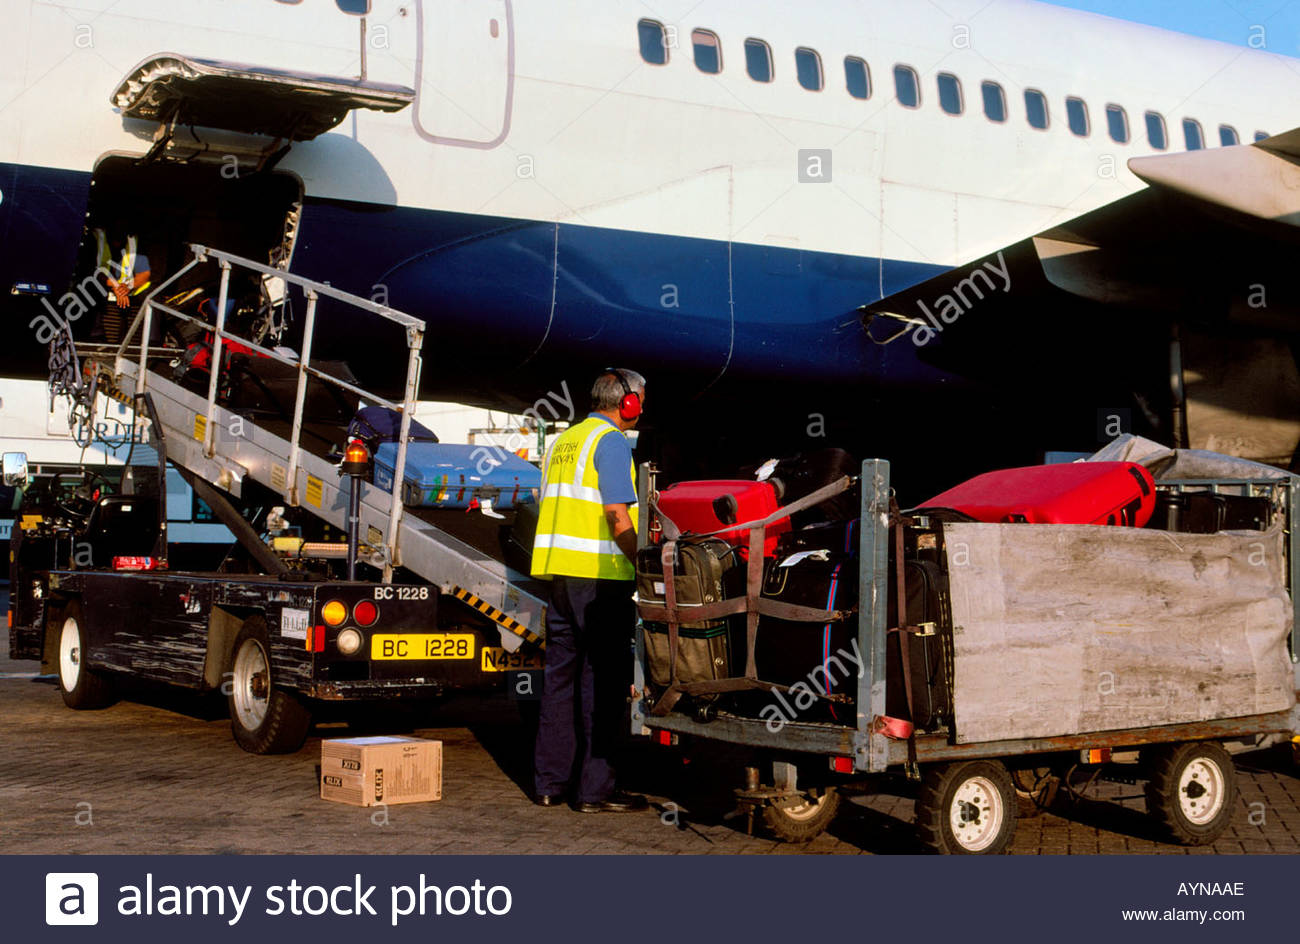baggagetruck: (12, 209, 594, 783)
